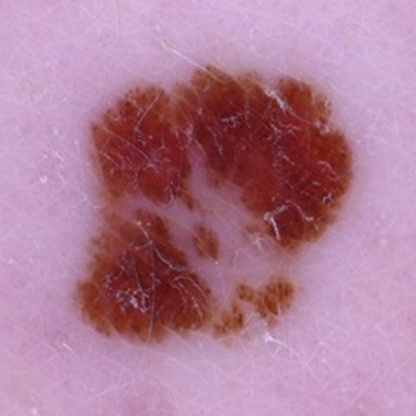malignant: (89, 100, 353, 325)
